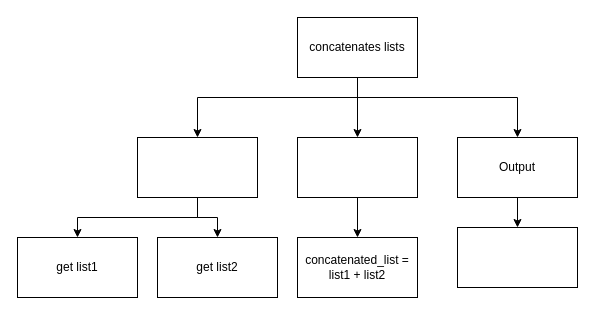
The diagram is 595 pixels wide and 315 high, and some of its shapes have lost their labels. The shapes that lost their labels are listed below. From the top down, each one's centre as x and y in pixels, then its label:
point 197,167: Input
point 357,167: Process
point 517,257: return concatenated_list
